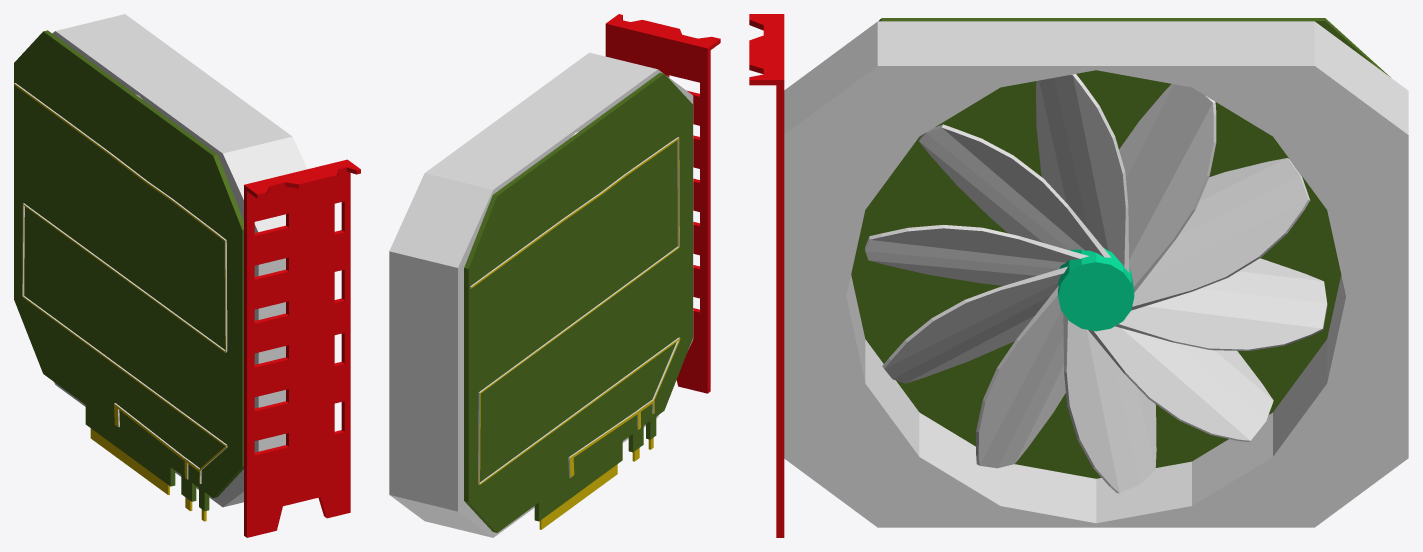
File: gpuBarreEnMetalSepare.fbx
3 renders of one model, left to right at view 1: azimuth 30°, elevation 25°; view 2: azimuth 150°, elevation 25°; view 3: azimuth 270°, elevation 25°, orthographic. The views are drawn at different scales.
Parts seen in each view (by area): view 1: Gpu1FBlack, MetalBar; view 2: Gpu1FBlack, MetalBar; view 3: Gpu1FBlack, MetalBar.
Boxes of the visible parts, <box> form: Gpu1FBlack: <box>14,14,306,521</box>; MetalBar: <box>244,159,360,537</box>; Gpu1FBlack: <box>389,52,693,537</box>; MetalBar: <box>605,14,720,393</box>; Gpu1FBlack: <box>784,18,1408,527</box>; MetalBar: <box>749,14,784,537</box>.
Size of the model in its own units: 0.9493 by 3.28 by 4.01.
